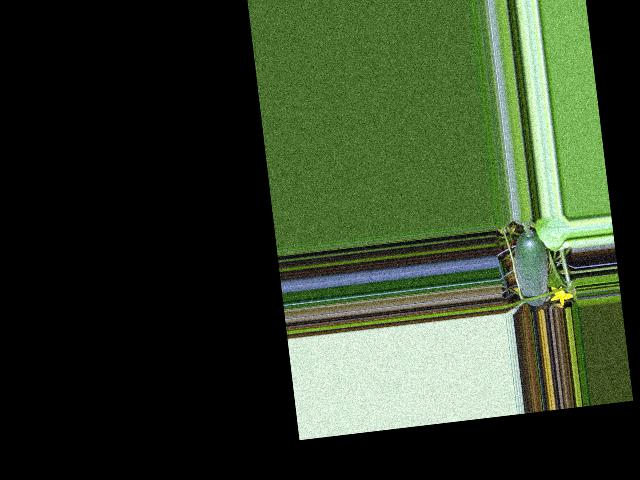cucumber: (511, 227, 552, 307)
